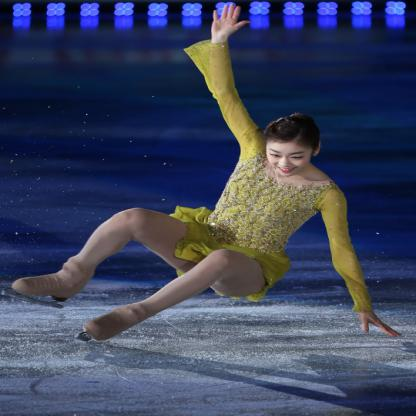Fall_Down: (8, 4, 400, 342)
